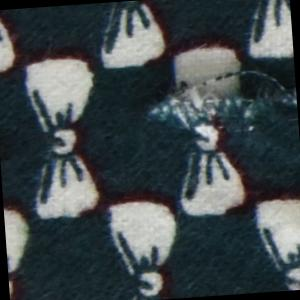Damage: (138, 64, 300, 144)
